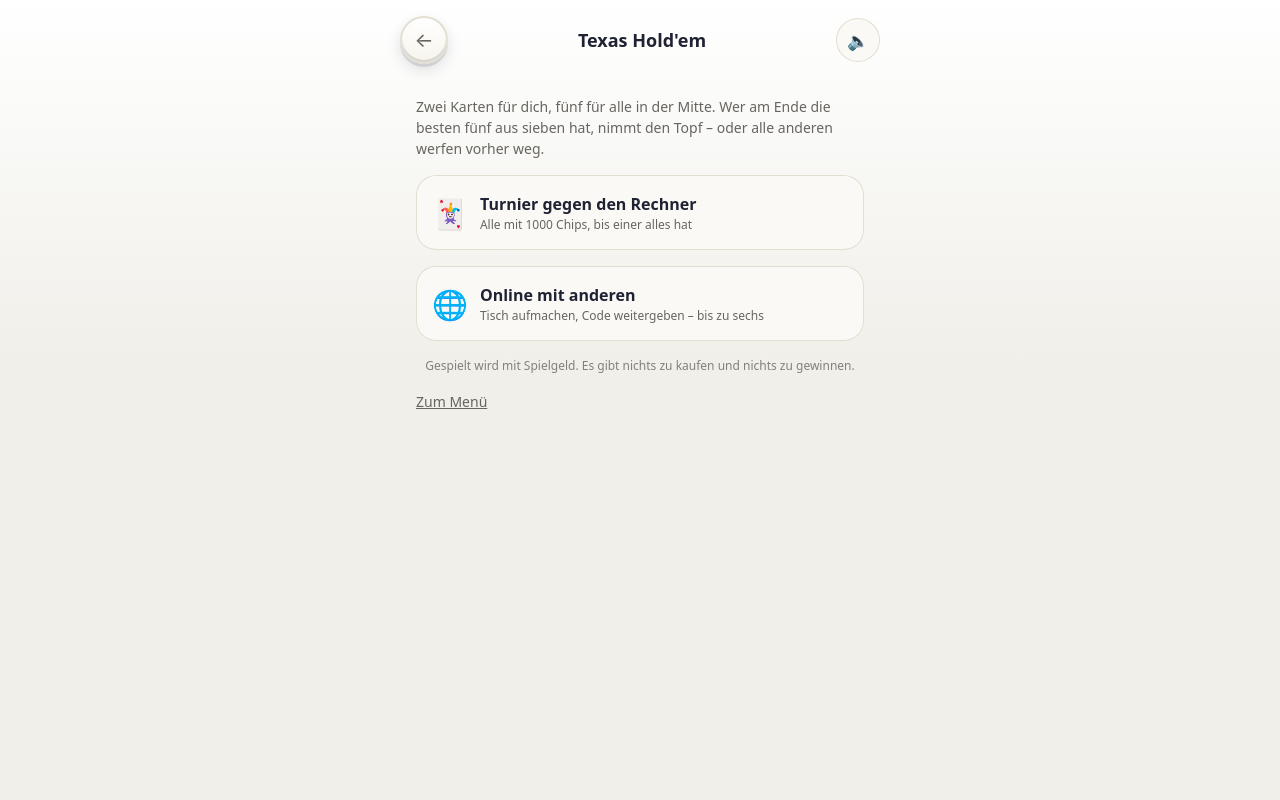
Test: Vom Menü an den Tisch › zeigt den Topf aus den Blinds und fünf leere Plätze
The width and height of the screenshot is (1280, 800).
Click the button "Turnier gegen den Rechner": x=640, y=213 [416,175,864,250]
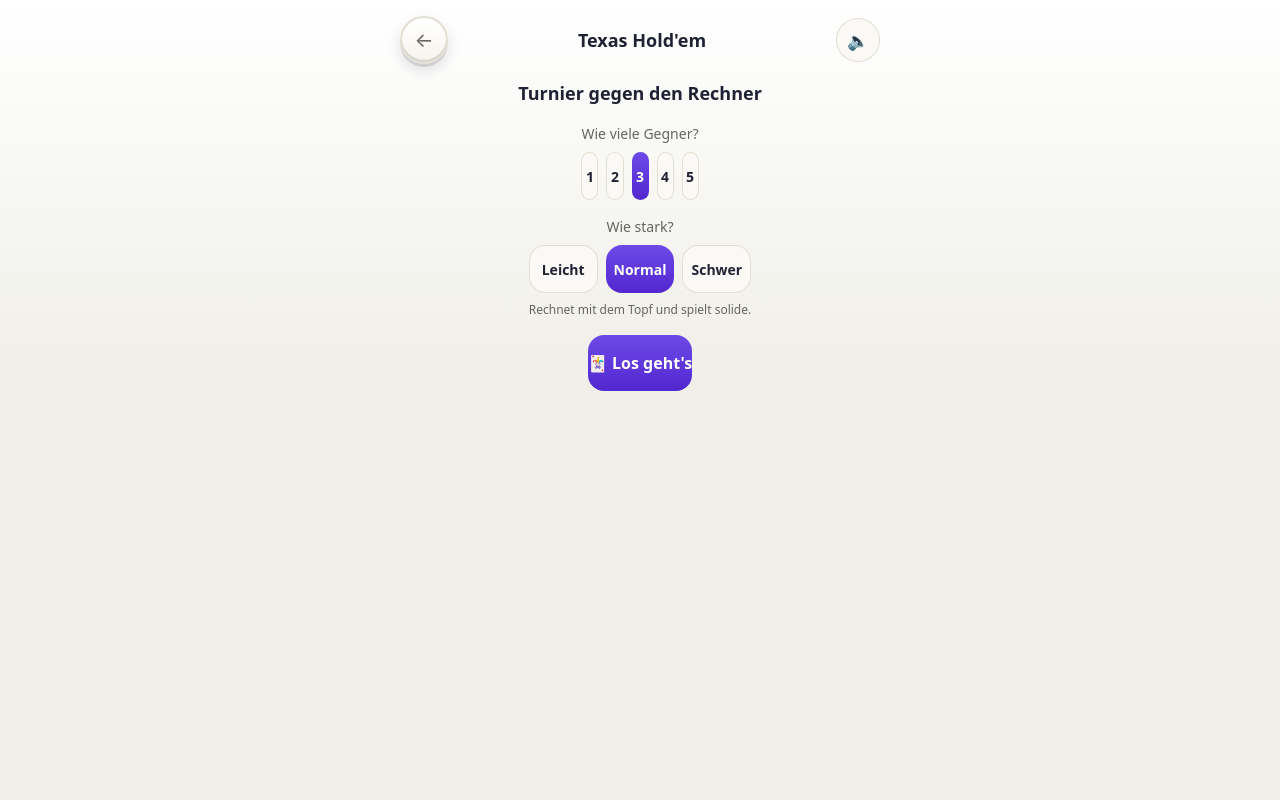
Click the button "1": x=590, y=176 [582,152,598,200]
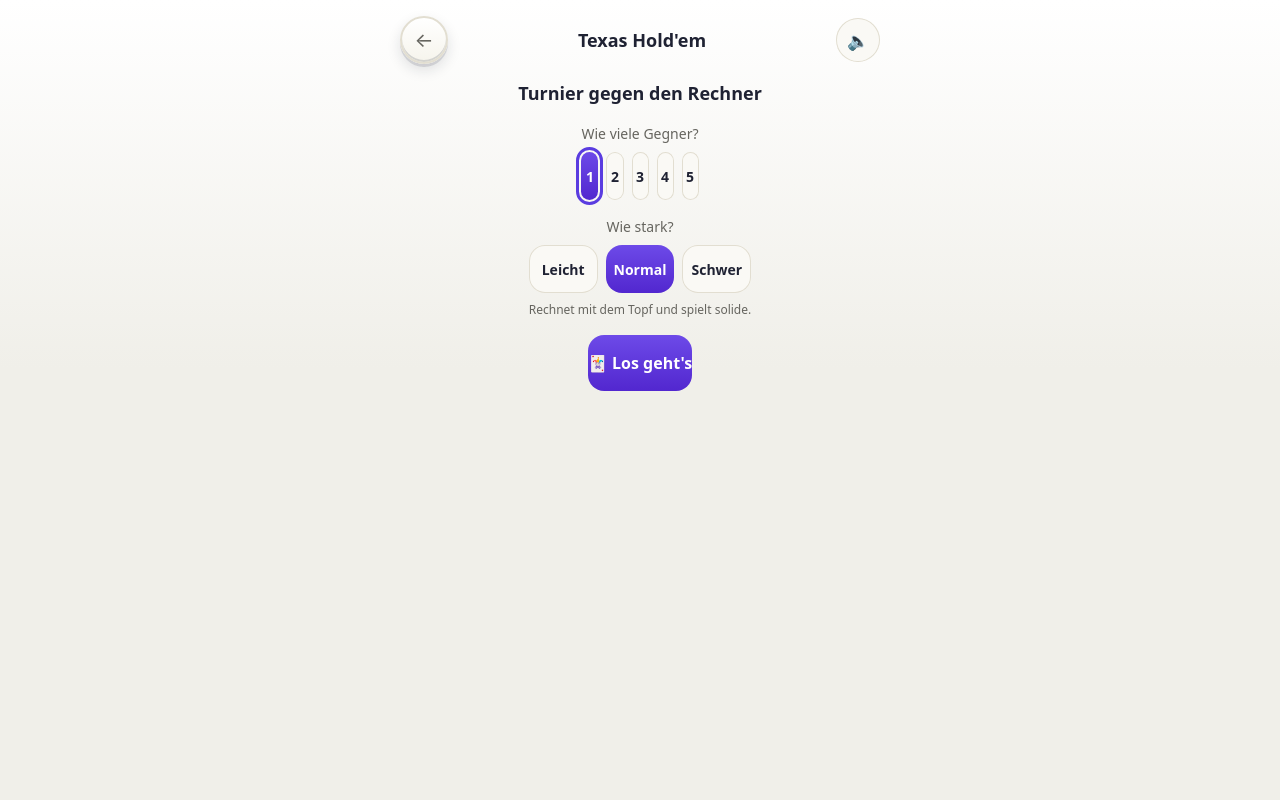
Click the button "🃏 Los geht's": x=640, y=363 [588,335,692,391]
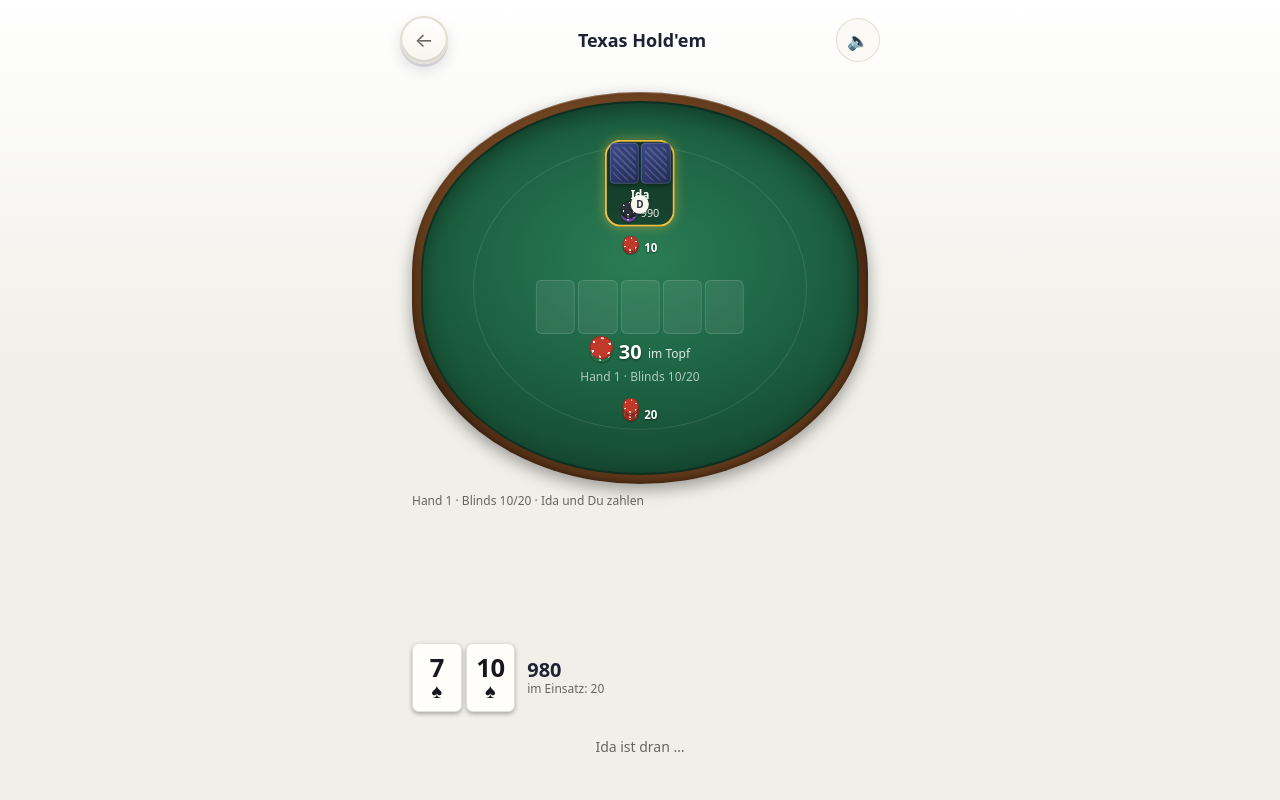
Expected: the text "30" is shown, [619,342,642,362]
Expected: the text "im Topf" is shown, [648,346,690,362]
Expected: the text "Hand 1 · Blinds 10/20" is shown, [580,368,700,386]
